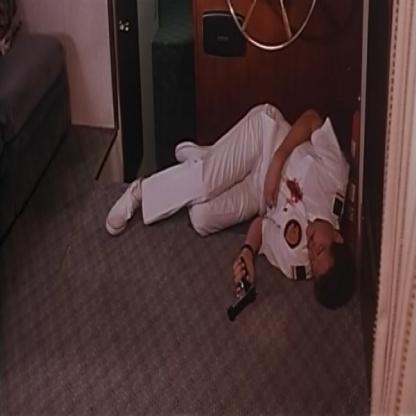Guns: (225, 252, 258, 324)
